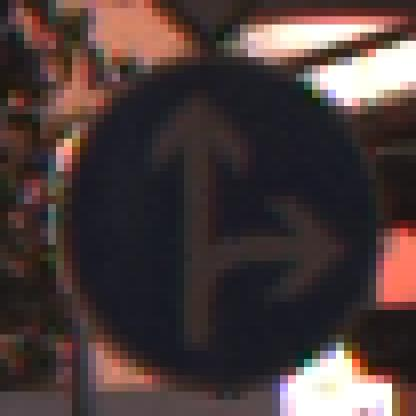Straight or Right: (49, 42, 369, 376)
